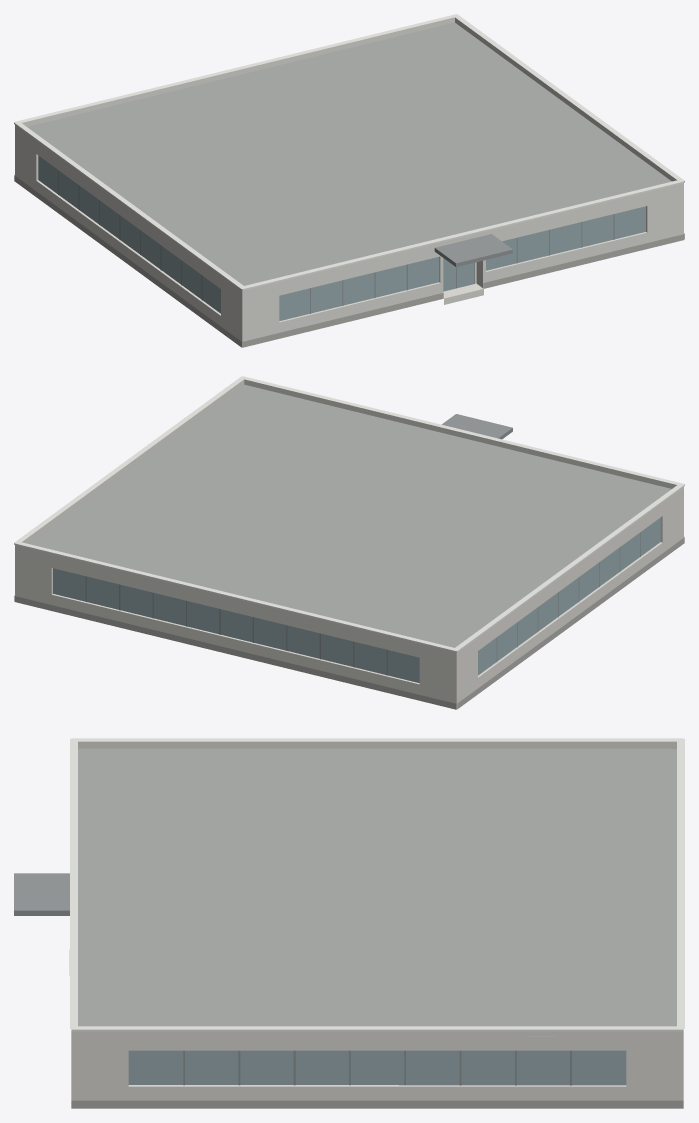
3 views of the same model, one above another, from view 1: azimuth 30°, elevation 25°; view 2: azimuth 150°, elevation 25°; view 3: azimuth 270°, elevation 25° (orthographic). The views are drawn at different scales.
Parts seen in each view (by area): view 1: b968357470__roof, b968357470__wall, b968357470__glass, b968357470__trim, b968357470__parapet, b968357470__base, b968357470__canopy, b968357470__frame, b968357470__entranceThreshold_0; view 2: b968357470__roof, b968357470__wall, b968357470__glass, b968357470__trim, b968357470__parapet, b968357470__base, b968357470__canopy, b968357470__frame; view 3: b968357470__roof, b968357470__wall, b968357470__glass, b968357470__trim, b968357470__parapet, b968357470__base, b968357470__canopy, b968357470__frame.
Part boxes in pixels (x1=…): b968357470__roof: x1=27, y1=22, x2=671, y2=285; b968357470__wall: x1=15, y1=128, x2=683, y2=347; b968357470__glass: x1=38, y1=155, x2=645, y2=320; b968357470__trim: x1=14, y1=14, x2=684, y2=290; b968357470__parapet: x1=15, y1=17, x2=683, y2=293; b968357470__base: x1=14, y1=175, x2=684, y2=347; b968357470__canopy: x1=434, y1=234, x2=512, y2=267; b968357470__frame: x1=58, y1=170, x2=614, y2=313; b968357470__entranceThreshold_0: x1=443, y1=283, x2=483, y2=304; b968357470__roof: x1=27, y1=384, x2=671, y2=647; b968357470__wall: x1=15, y1=490, x2=683, y2=709; b968357470__glass: x1=53, y1=517, x2=660, y2=682; b968357470__trim: x1=14, y1=376, x2=684, y2=652; b968357470__parapet: x1=15, y1=379, x2=683, y2=655; b968357470__base: x1=14, y1=537, x2=684, y2=709; b968357470__canopy: x1=442, y1=414, x2=512, y2=439; b968357470__frame: x1=85, y1=532, x2=640, y2=675; b968357470__roof: x1=78, y1=748, x2=676, y2=1036; b968357470__wall: x1=71, y1=1036, x2=683, y2=1100; b968357470__glass: x1=128, y1=1050, x2=626, y2=1085; b968357470__trim: x1=70, y1=738, x2=684, y2=1031; b968357470__parapet: x1=71, y1=741, x2=683, y2=1036; b968357470__base: x1=71, y1=1100, x2=683, y2=1108; b968357470__canopy: x1=14, y1=873, x2=69, y2=915; b968357470__frame: x1=183, y1=1050, x2=571, y2=1085.
Bounding box in the file's own units: 31.22 × 4.35 × 30.39.
